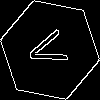V: (25, 25, 77, 72)
